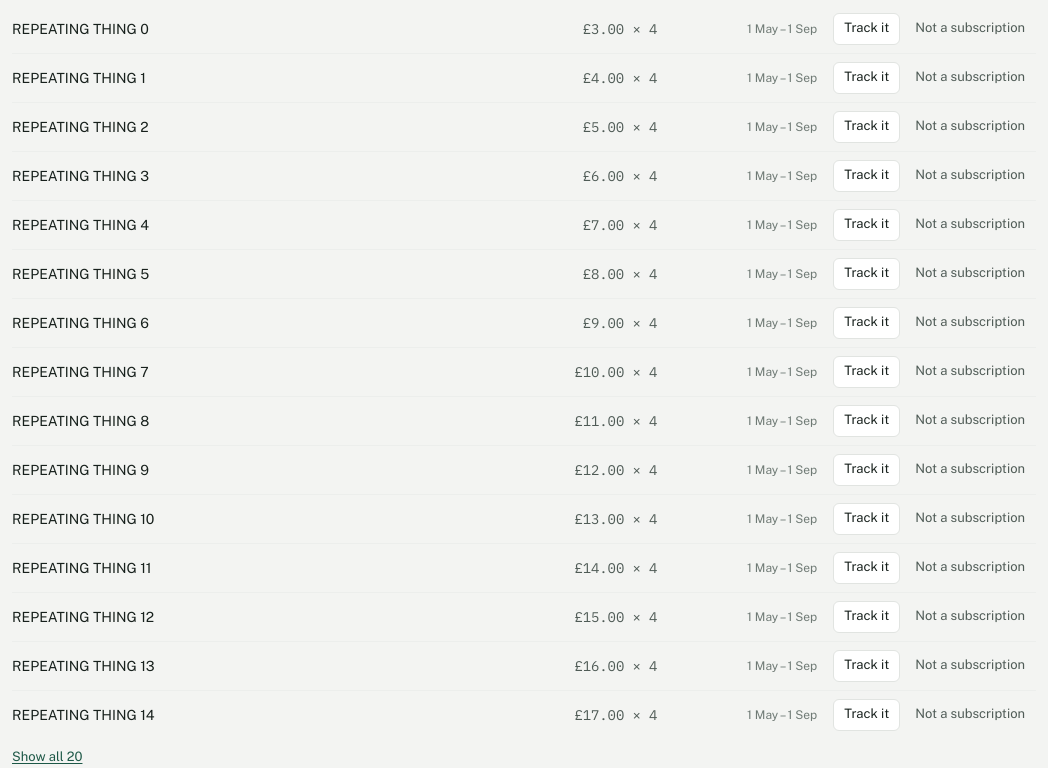
Test case: Subscriptions page › shows 15 untracked charges, then all of them on request
The image size is (1048, 768).
(page scrolled)
expect the text "REPEATING THING 0" is shown: met, box [12,20,149,36]
Click the button "Show all 20".
click(47, 756)  # box [12,746,82,766]
(page scrolled)
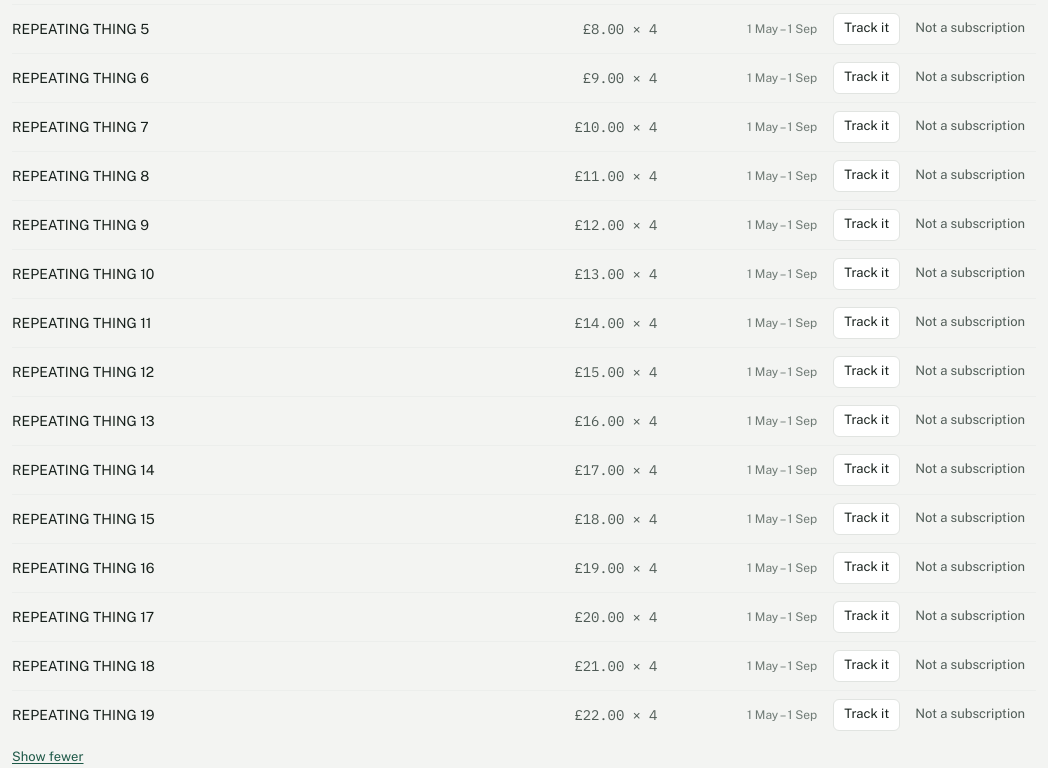
expect the text "REPEATING THING 19" is shown: met, box [12,706,155,722]
